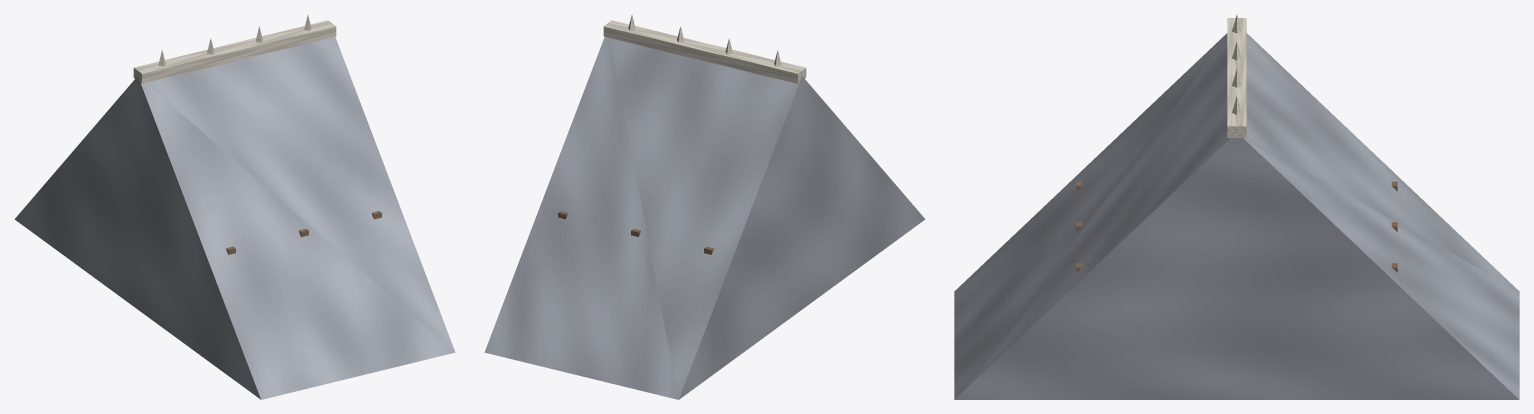
The model's file is vampire-crypt-and-gothic-cathedral-nave-roof-bay-bf79d2e5__22967.glb.
The picture shows the model from 3 angles, left to right: view 1: azimuth 30°, elevation 25°; view 2: azimuth 150°, elevation 25°; view 3: azimuth 270°, elevation 25°; orthographic projection. The views are drawn at different scales.
Visible parts, largest first — view 1: nave-roof-bay; view 2: nave-roof-bay; view 3: nave-roof-bay.
Part boxes in pixels (box(x1,y1,x2,y2)): nave-roof-bay: box(14, 14, 455, 399); nave-roof-bay: box(484, 14, 925, 399); nave-roof-bay: box(954, 15, 1519, 399).
Bounding box in the file's own units: 4 × 5 × 8.8.
Materials: 3 (3 with a texture image).
